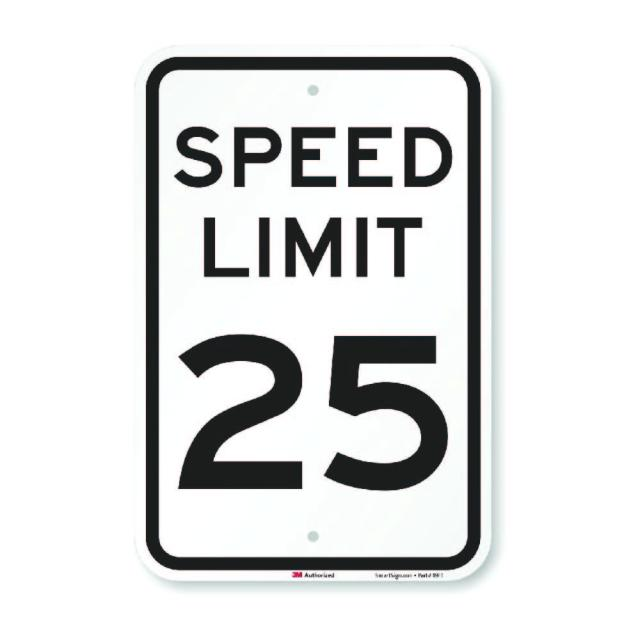speedLimit25: (130, 43, 499, 586)
